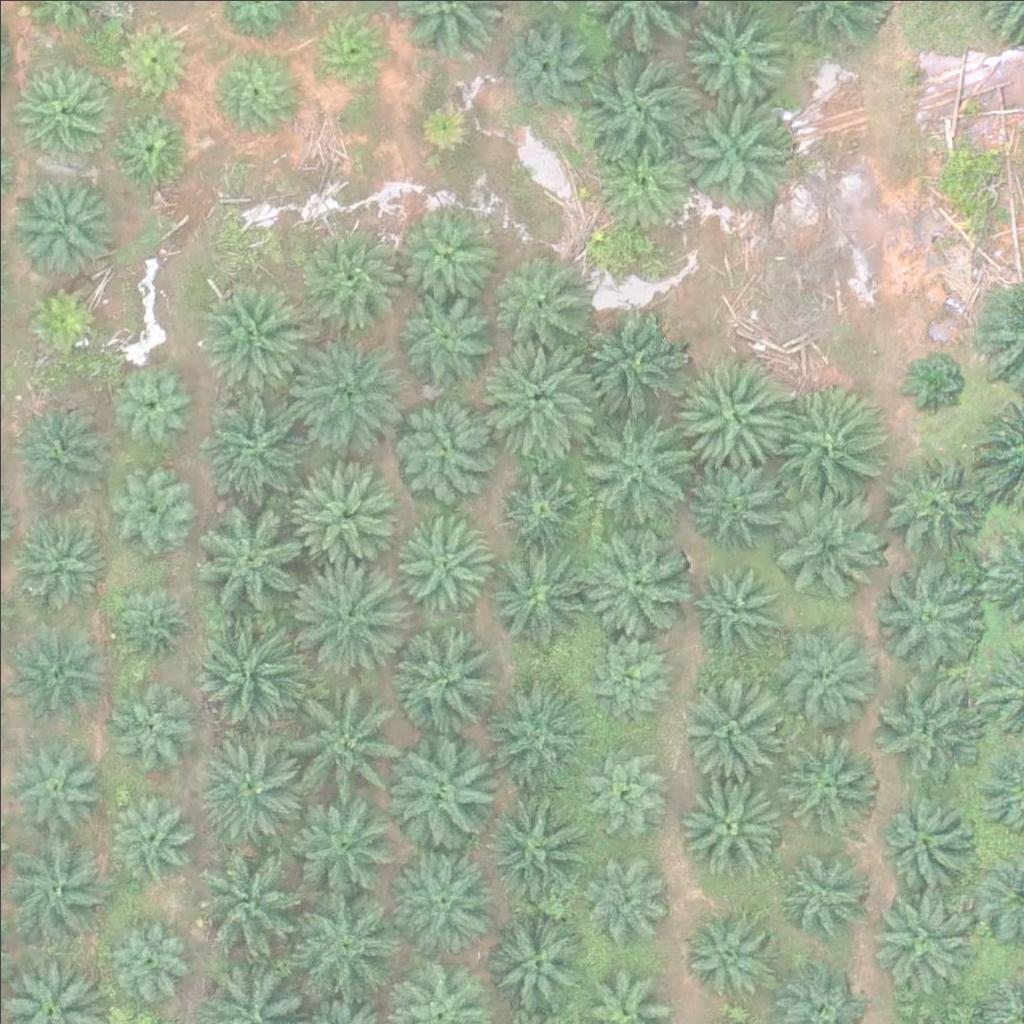Kelapa_Sawit: (287, 552, 400, 666), (189, 731, 302, 844), (193, 612, 306, 725), (200, 496, 313, 609), (393, 727, 506, 840), (585, 422, 698, 535), (572, 305, 685, 418), (678, 358, 791, 471), (773, 617, 886, 730), (773, 498, 886, 611), (781, 384, 894, 497), (678, 89, 791, 202), (876, 557, 989, 670), (202, 380, 314, 494), (198, 276, 310, 390), (296, 219, 408, 333), (583, 523, 695, 637), (773, 723, 885, 837), (479, 791, 591, 905), (864, 882, 976, 996), (288, 331, 400, 444), (288, 458, 400, 571), (281, 683, 393, 796), (396, 622, 508, 735), (478, 674, 590, 787), (481, 534, 593, 647), (481, 346, 593, 459), (670, 671, 782, 784), (578, 49, 690, 162), (870, 674, 982, 787), (3, 831, 115, 944), (192, 850, 304, 963), (290, 795, 402, 908), (291, 886, 403, 999), (384, 839, 496, 952), (675, 770, 787, 883), (9, 514, 109, 615), (8, 405, 108, 506), (15, 168, 115, 269), (16, 60, 116, 161), (394, 508, 494, 609), (394, 396, 494, 497), (392, 287, 492, 388), (497, 248, 597, 349), (684, 451, 784, 552), (680, 564, 780, 665), (591, 131, 691, 232), (880, 450, 980, 551), (492, 912, 592, 1013), (682, 904, 782, 1005), (770, 835, 870, 936), (2, 741, 102, 841), (7, 612, 107, 712), (392, 202, 492, 302), (874, 789, 974, 889), (17, 277, 105, 365), (209, 49, 297, 137), (111, 17, 199, 105), (103, 106, 191, 194), (108, 361, 196, 449), (104, 469, 192, 557), (501, 463, 589, 551), (584, 633, 672, 721), (496, 24, 584, 112), (576, 848, 664, 936), (309, 7, 396, 95), (107, 577, 194, 665), (107, 682, 194, 770), (104, 794, 191, 882), (104, 918, 191, 1006), (582, 743, 669, 831), (895, 347, 970, 422), (416, 91, 479, 154)
